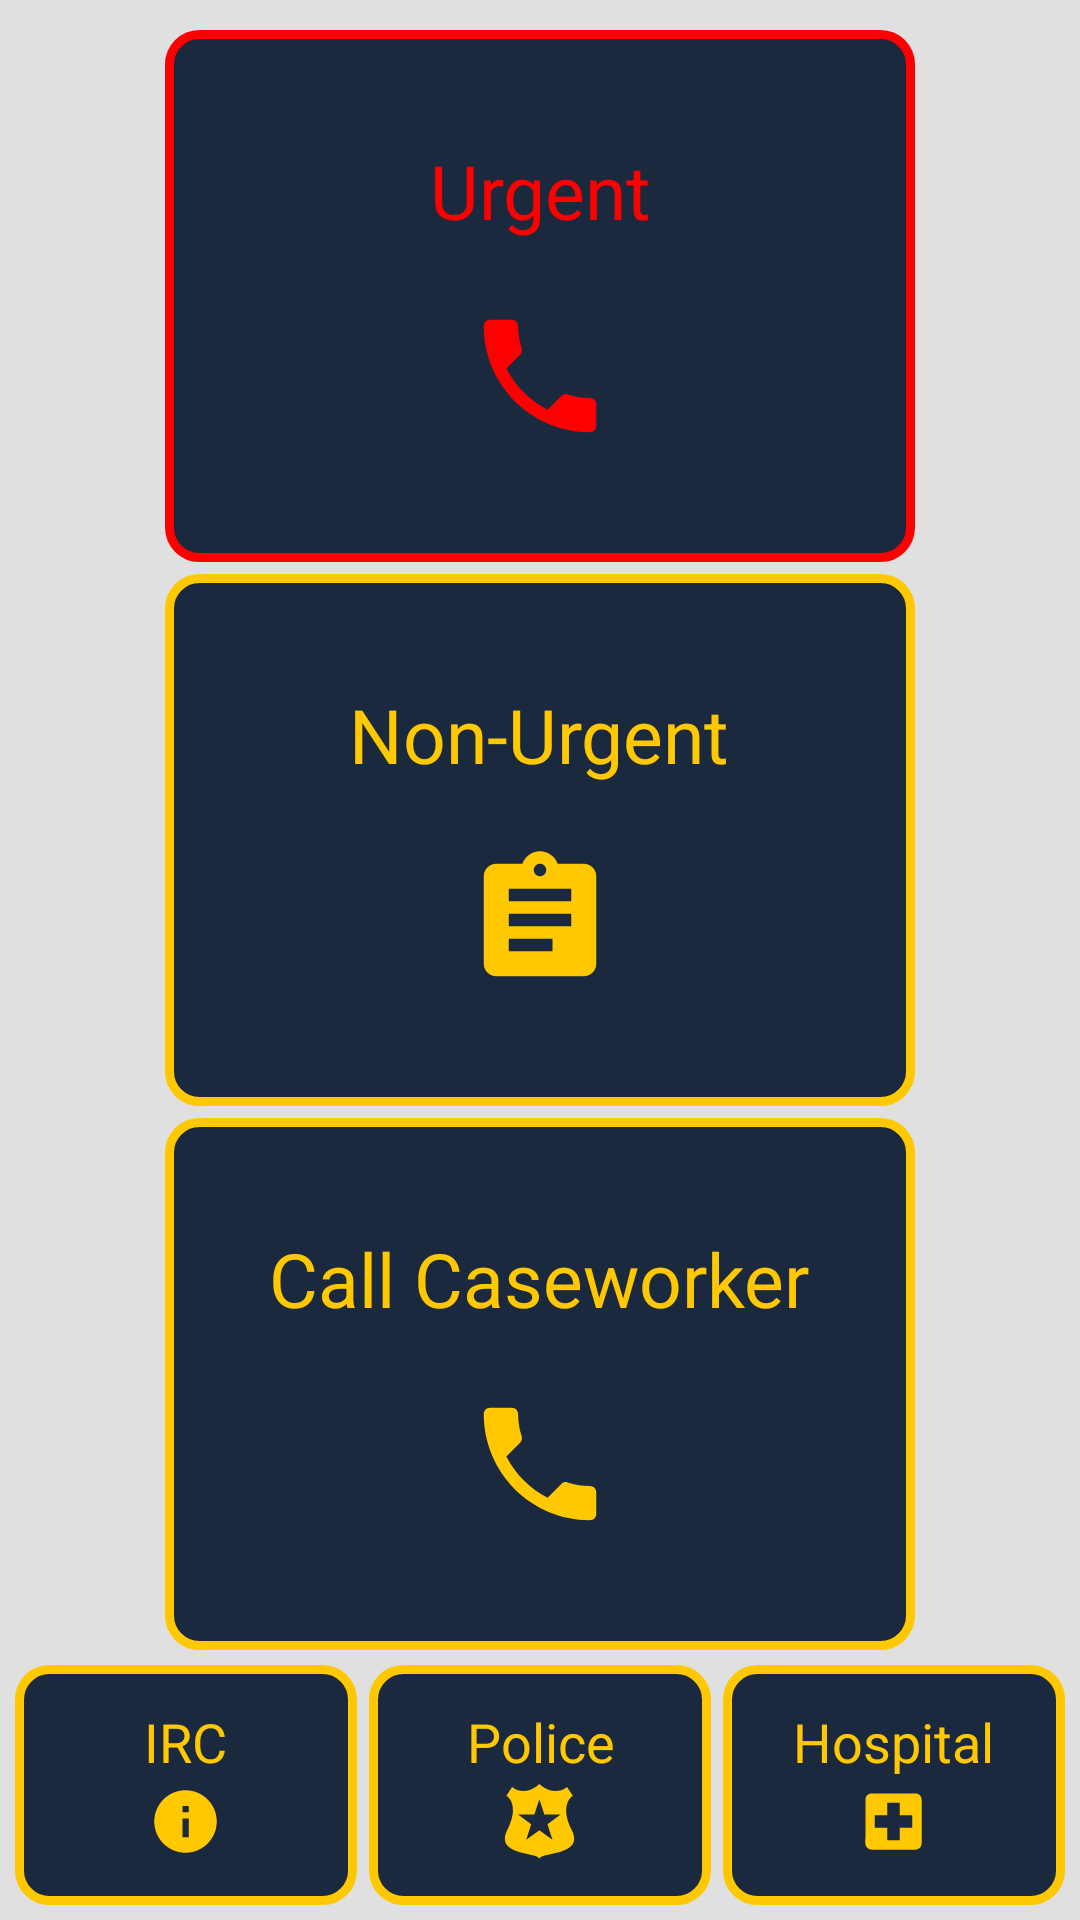

Where to tap for icons on this 1080x1920 app screen, as (x,y):
assignment: (540,914)
info: (185,1821)
